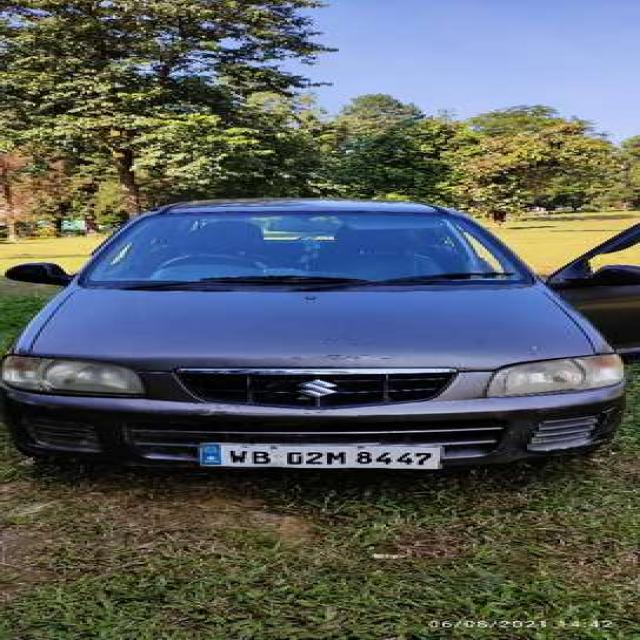Plate: (194, 443, 439, 470)
